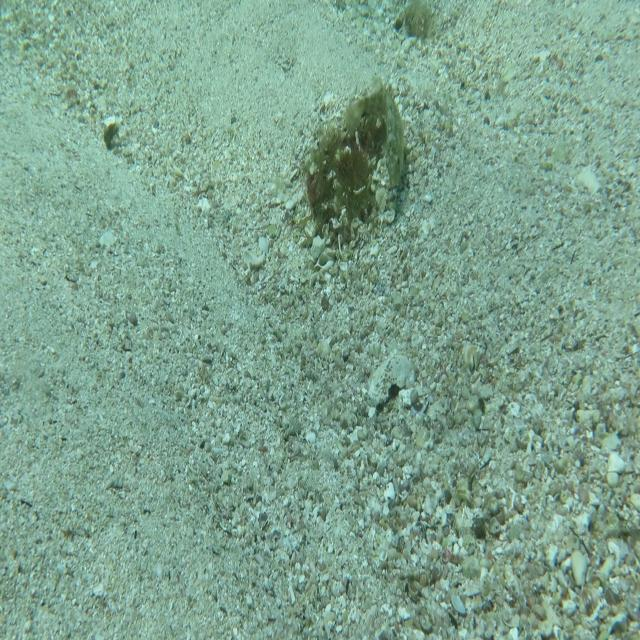SA: (342, 81, 407, 192)
nest: (302, 100, 396, 254)
vegetation: (394, 0, 433, 42), (103, 119, 121, 153)
